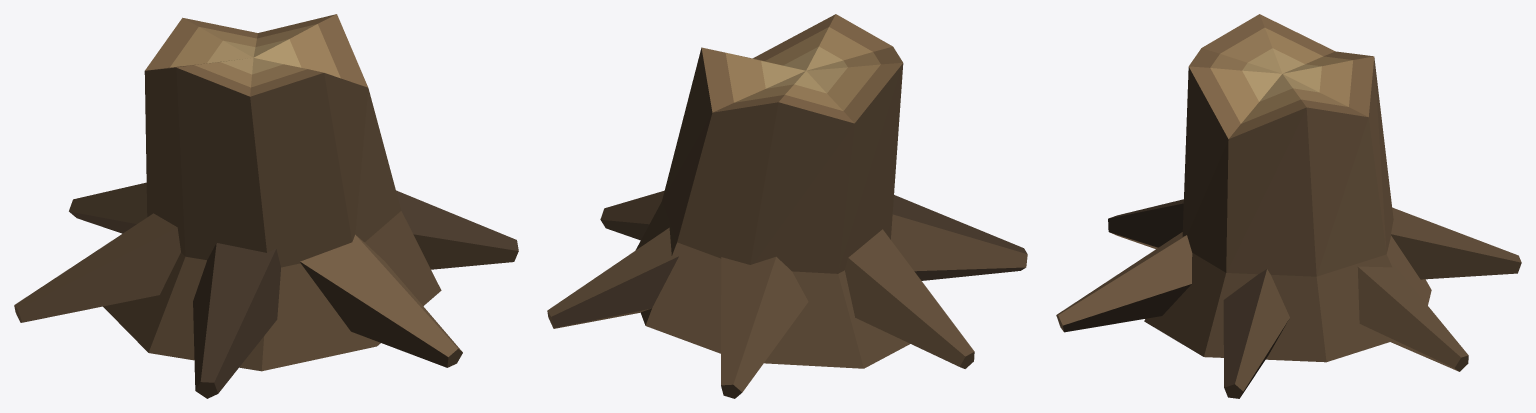
Rendered from Tree_Stump.obj.
The picture shows the model from 3 angles, left to right: view 1: azimuth 30°, elevation 25°; view 2: azimuth 150°, elevation 25°; view 3: azimuth 270°, elevation 25°; orthographic projection. The views are drawn at different scales.
Parts seen in each view (by area): view 1: Tree_Stump; view 2: Tree_Stump; view 3: Tree_Stump.
Boxes of the visible parts, x1,y1,x2,y2 form: Tree_Stump: (14, 14, 518, 398); Tree_Stump: (547, 14, 1027, 398); Tree_Stump: (1056, 14, 1521, 398).
Size of the model in its own units: 1.11 by 0.658 by 1.09.
Materials: 1 (1 with a texture image).
